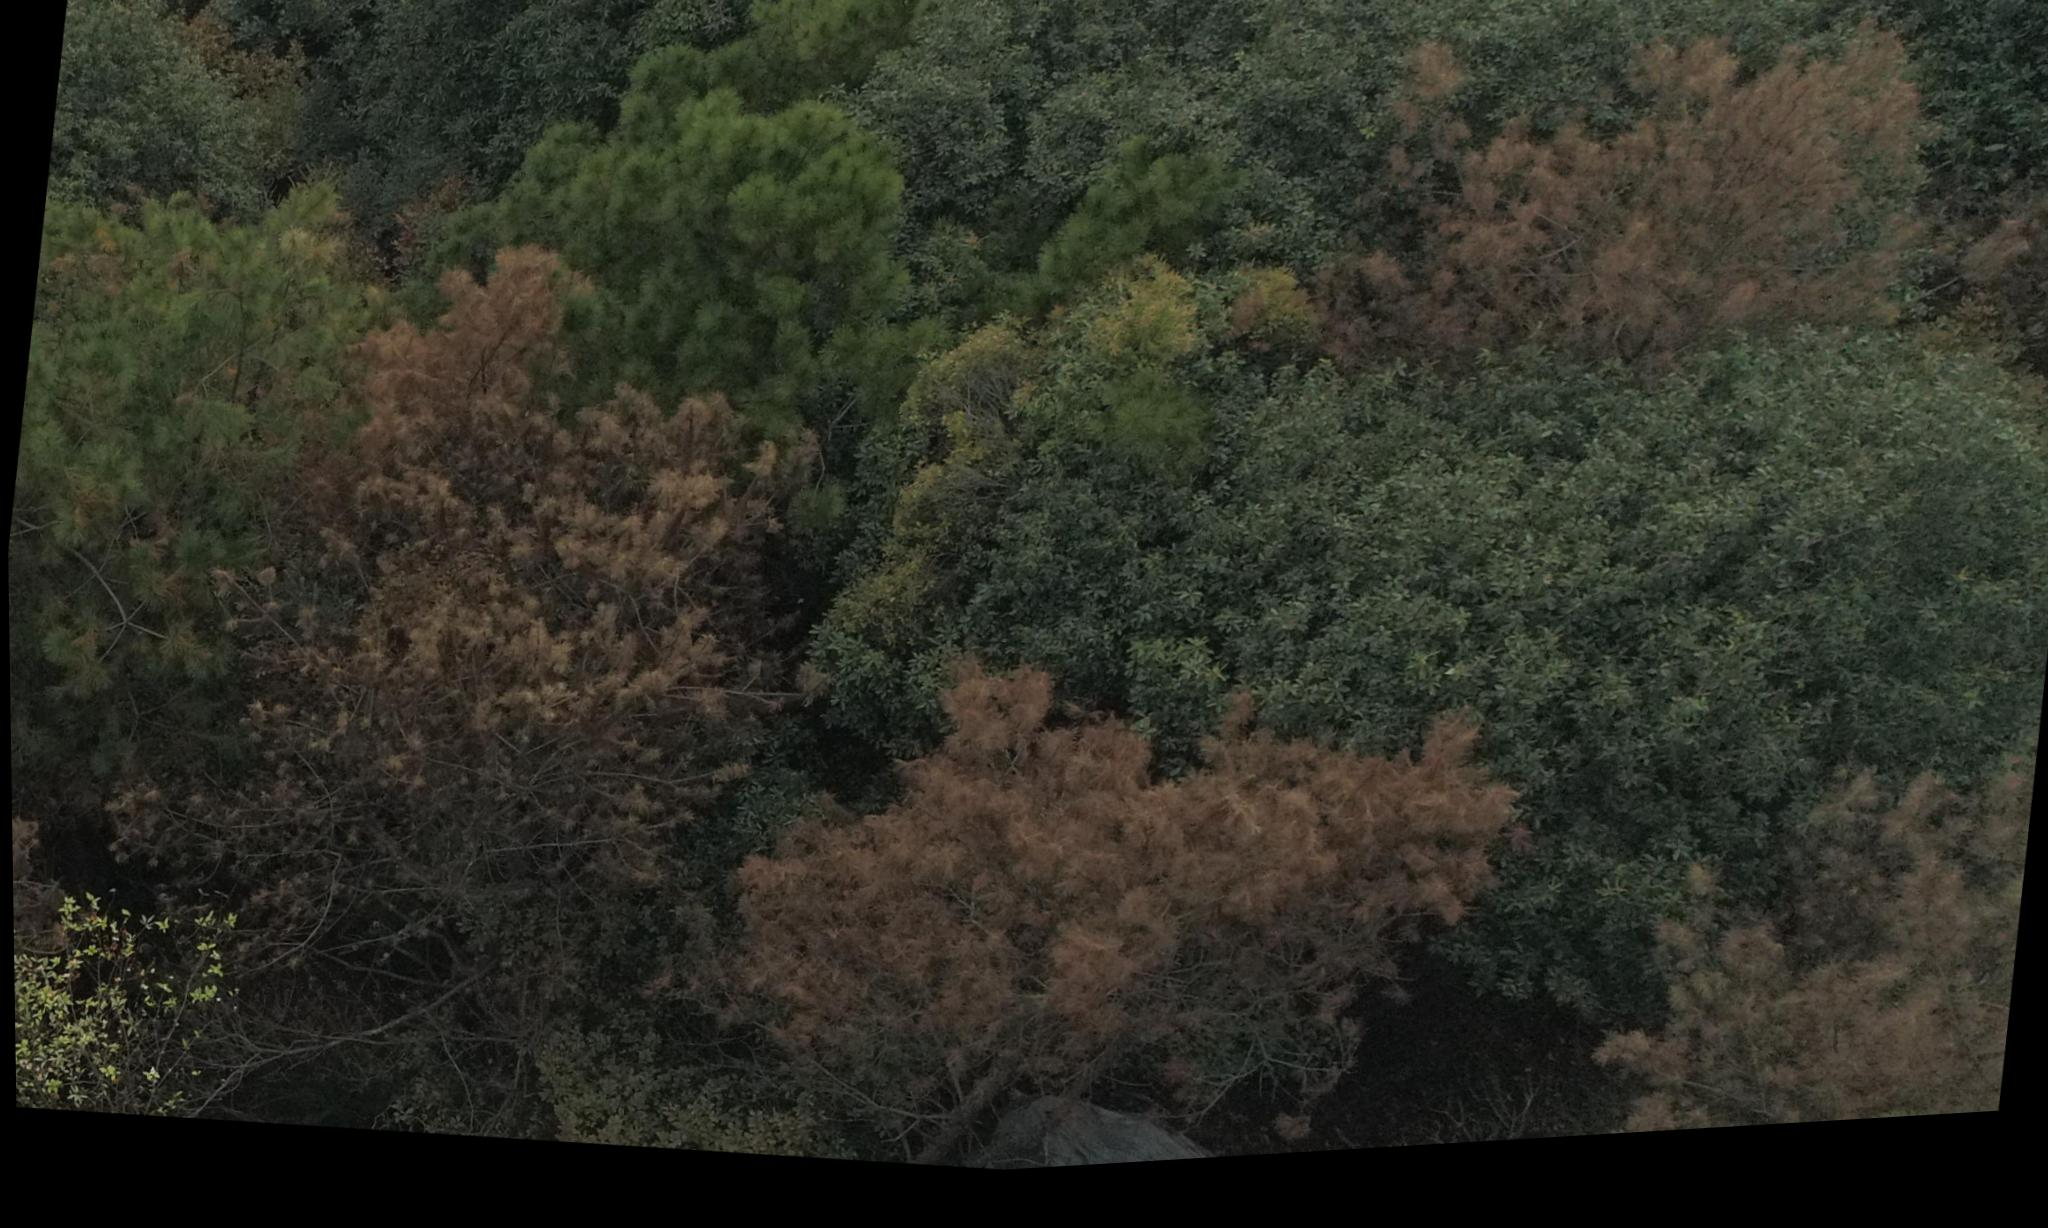heavy: (731, 642, 1523, 1161), (308, 257, 798, 889), (1301, 1, 1947, 431)
